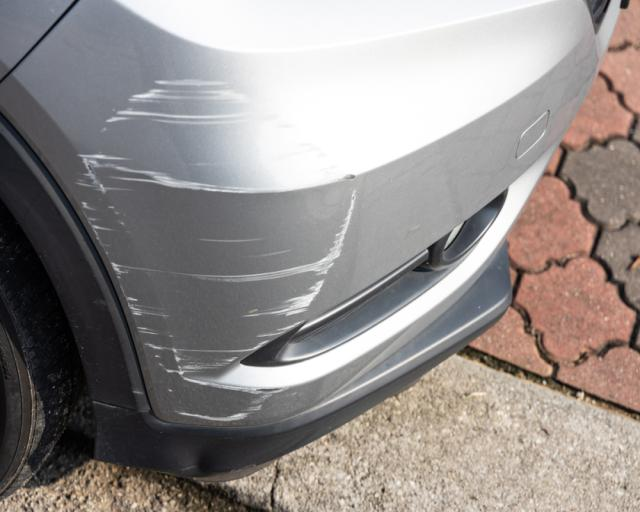scratch: (72, 77, 359, 422)
